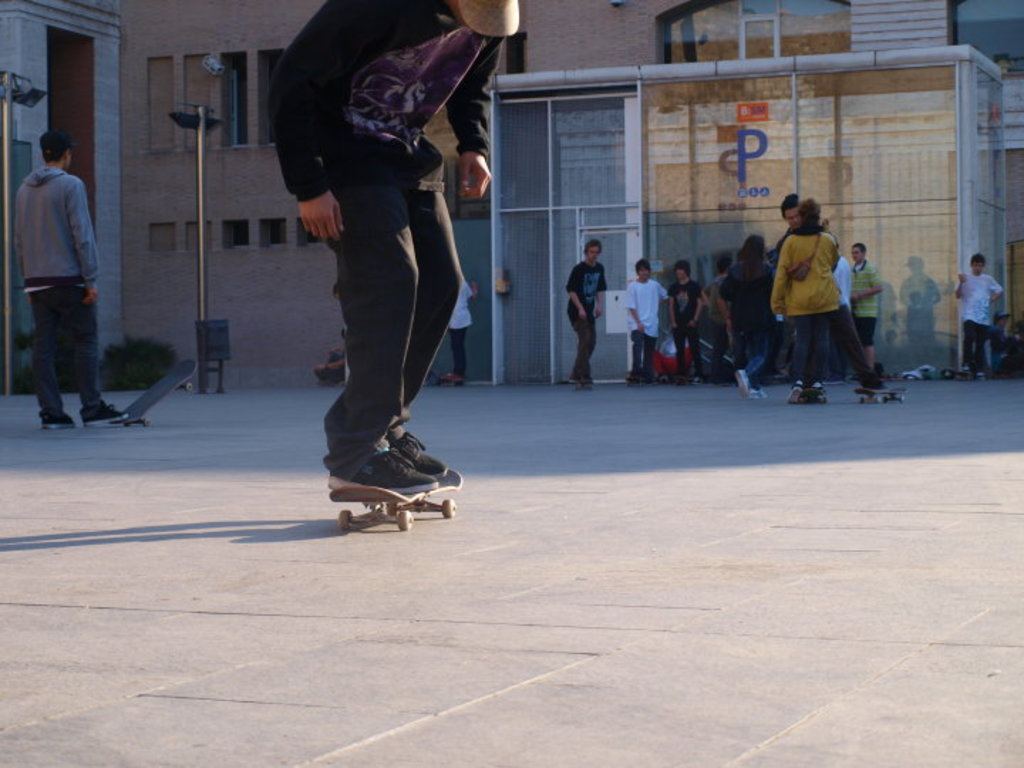Person: (11, 132, 101, 430), (444, 272, 475, 378)
